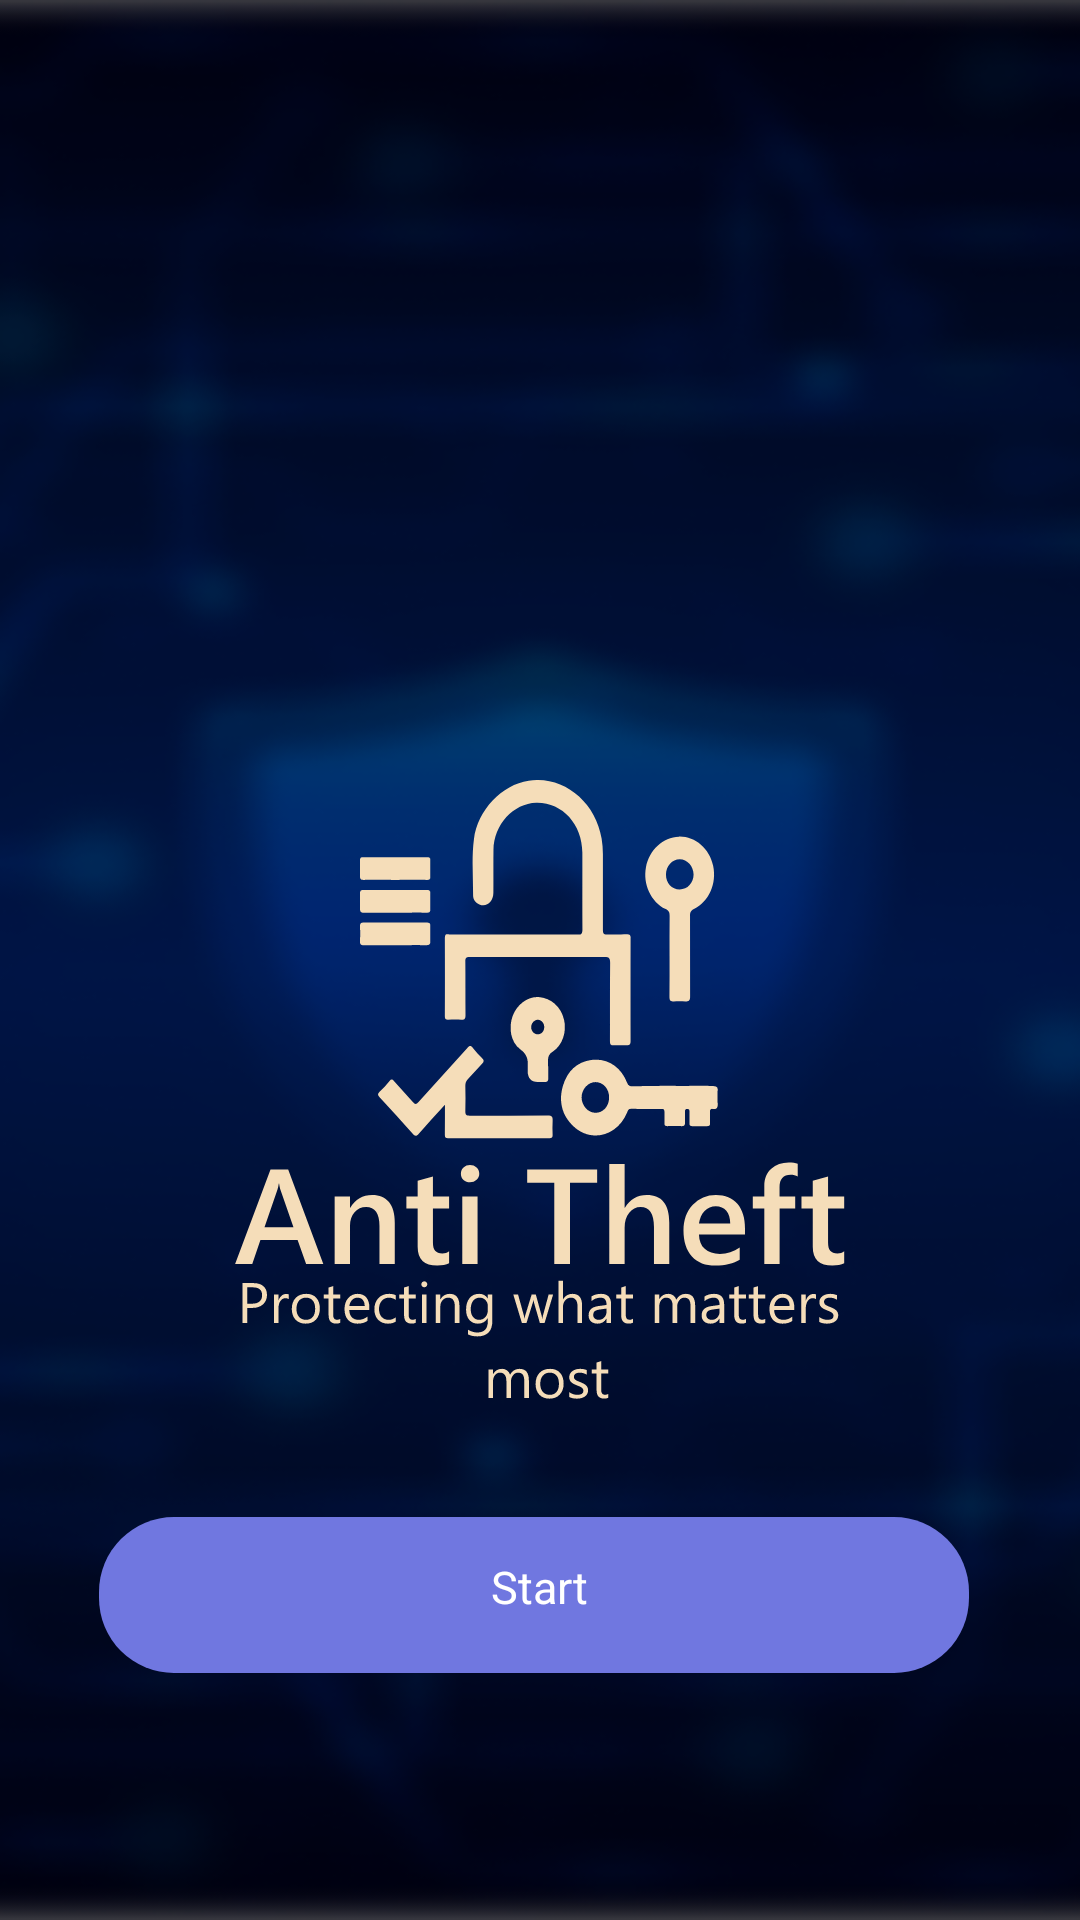

Where icons sit on this 1080×1920 app screen, as rect(x1, y1, x2, y2):
starting lock: rect(360, 780, 720, 1140)
